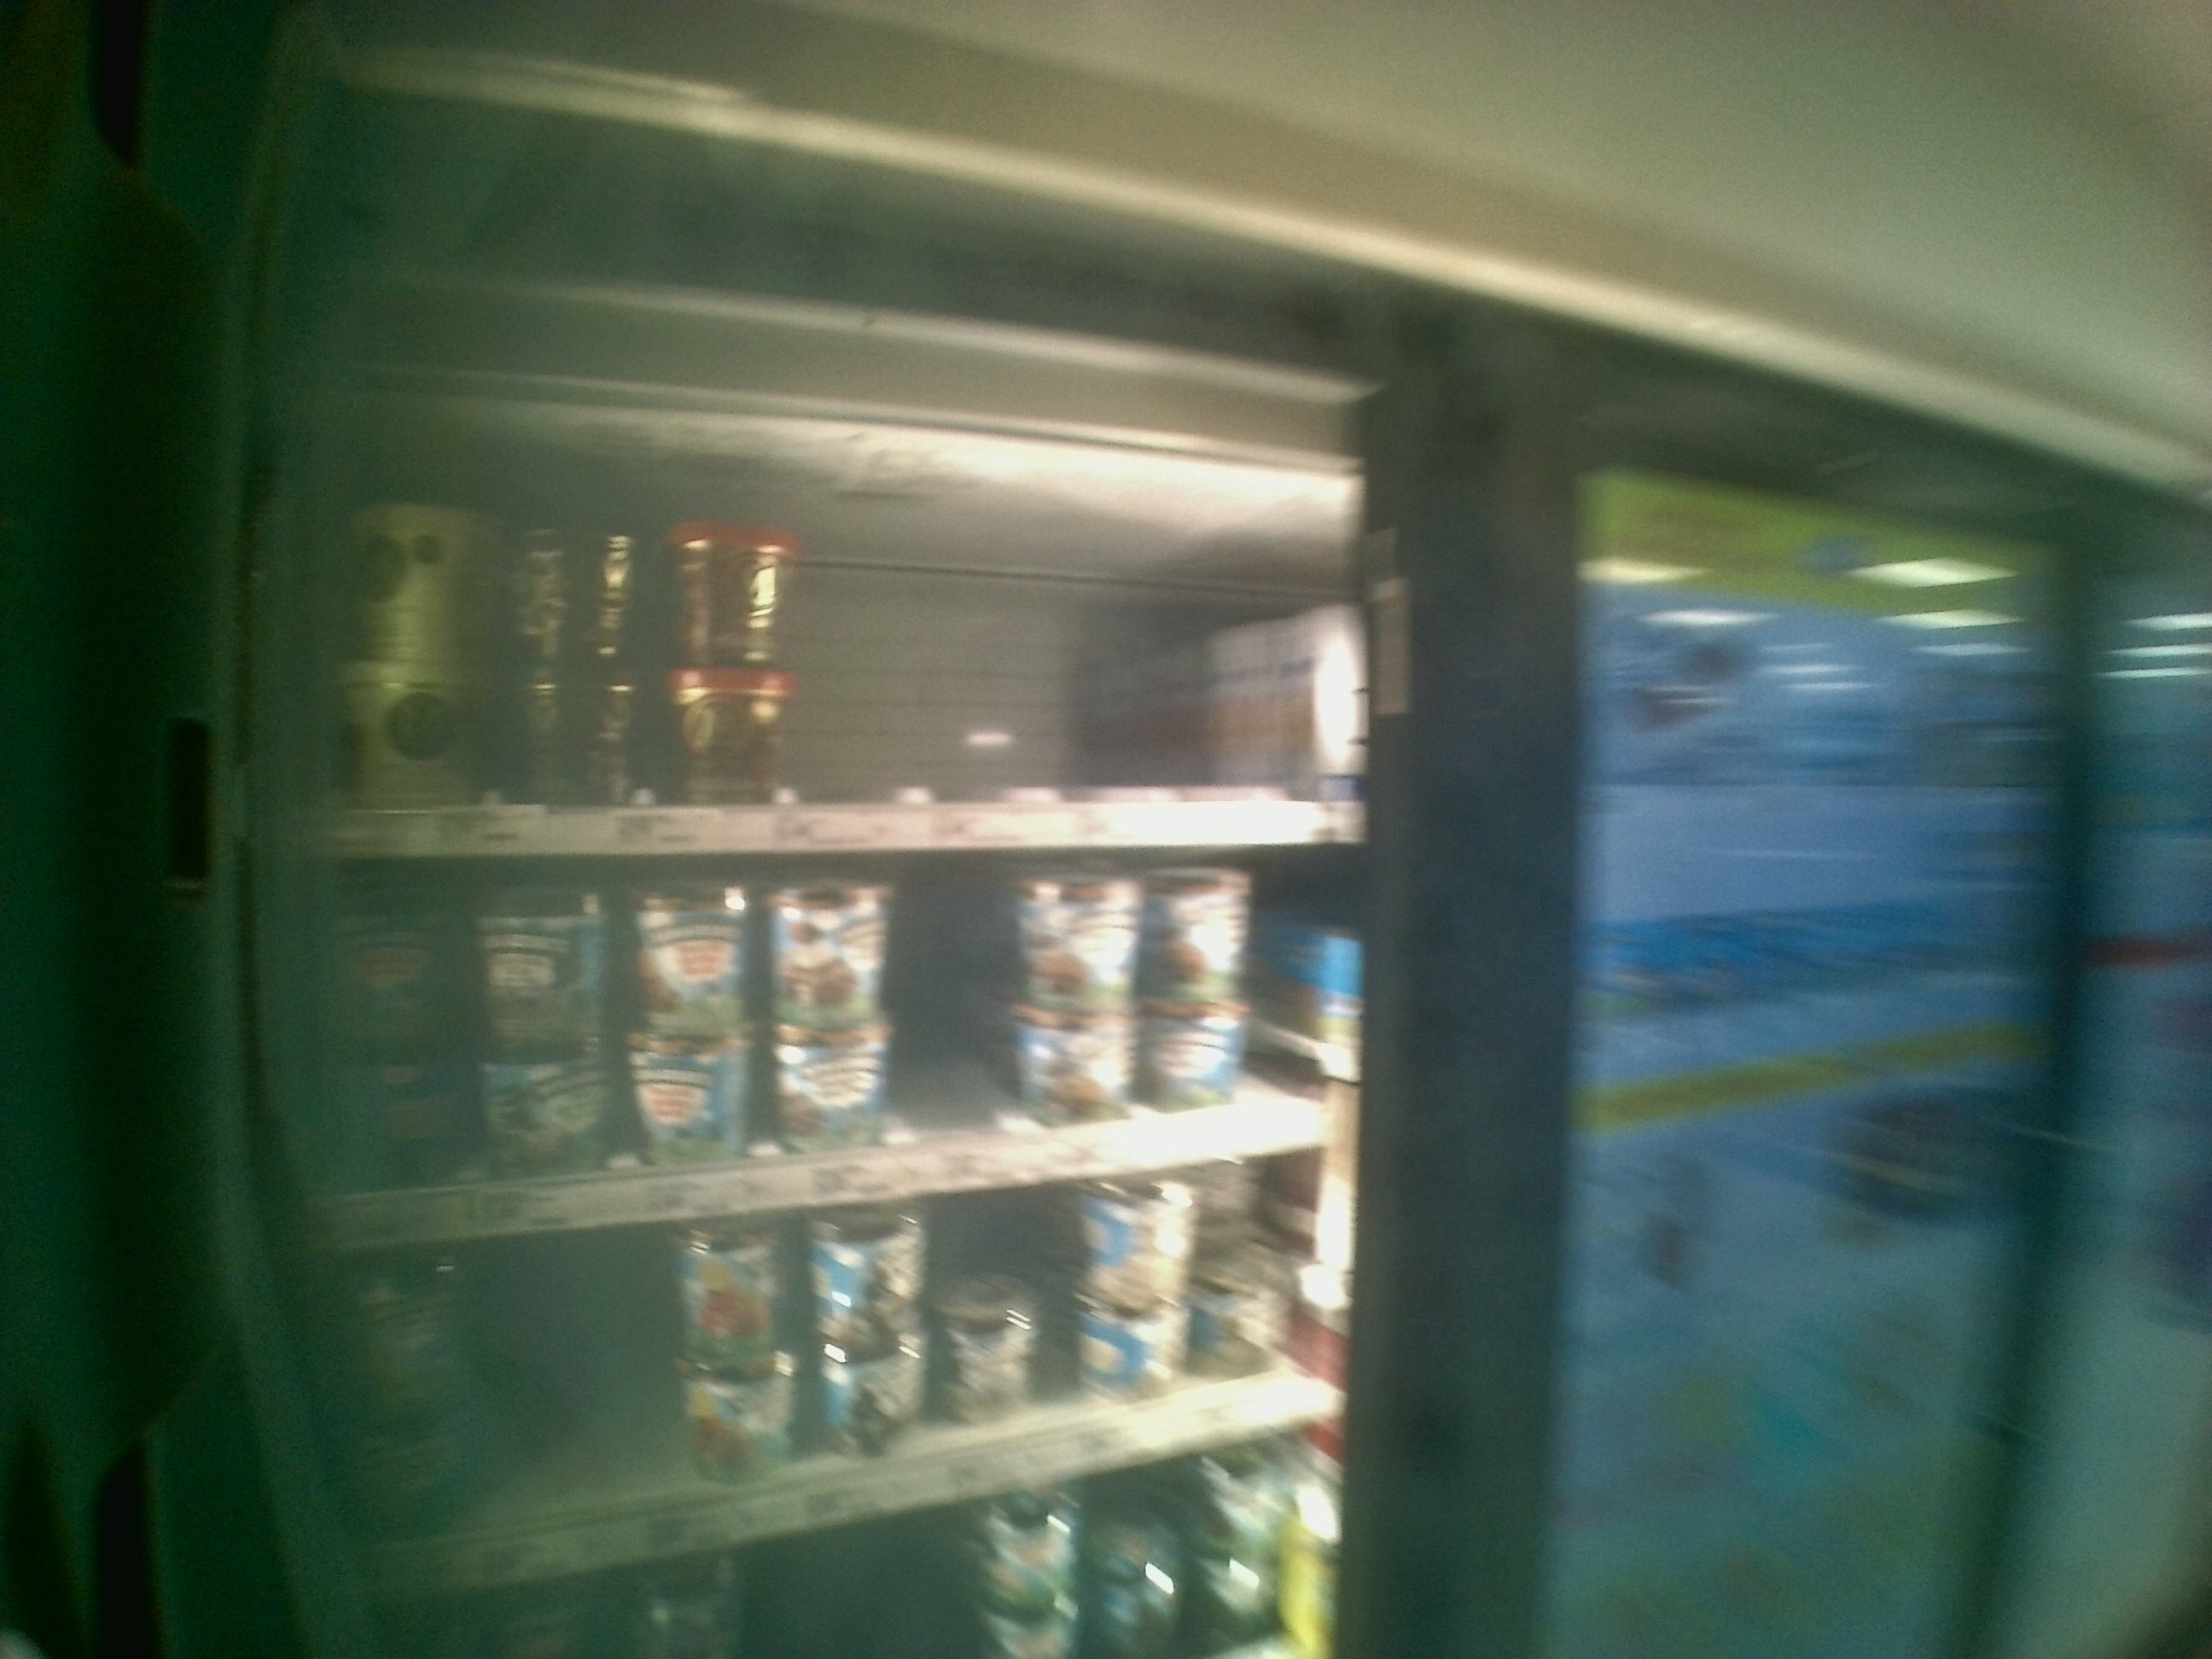shelf: (310, 416, 1366, 854), (310, 847, 1378, 1251)
